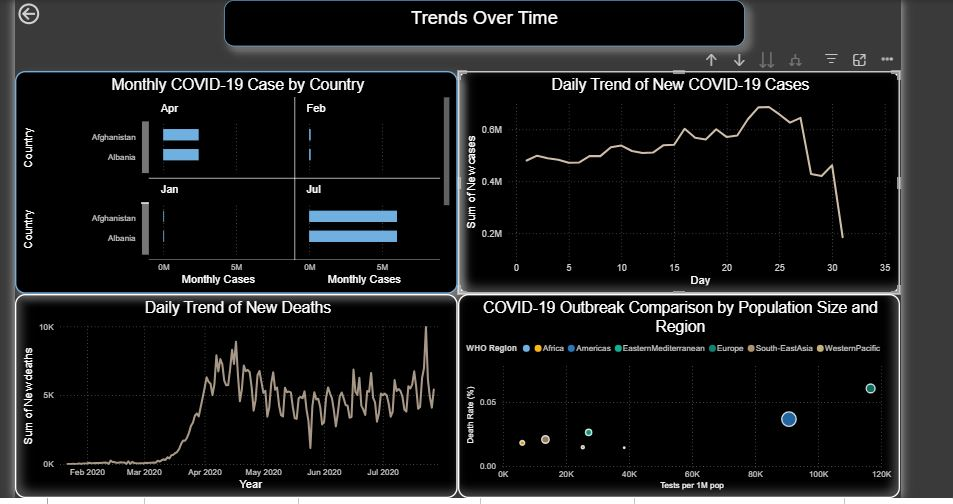

The page's visual inventory and layout, read from the dashboard file:
{"tool":"powerbi","page":{"name":"Trends Over Time","canvas":[1280,720],"ordinal":5},"visuals":[{"type":"lineChart","title":"Daily Trend of New Deaths","fields":{"Y":["Sum(Day Wise.New deaths)"],"Category":["Day Wise.Date.Variation.Date Hierarchy.Year","Day Wise.Date.Variation.Date Hierarchy.Quarter","Day Wise.Date.Variation.Date Hierarchy.Month","Day Wise.Date.Variation.Date Hierarchy.Day"]},"box":[0,425.1,640.5,294.9],"z":0},{"type":"lineChart","title":"Daily Trend of New COVID-19 Cases","fields":{"Category":["Day Wise.Date.Variation.Date Hierarchy.Year","Day Wise.Date.Variation.Date Hierarchy.Quarter","Day Wise.Date.Variation.Date Hierarchy.Month","Day Wise.Date.Variation.Date Hierarchy.Day"],"Y":["Sum(Day Wise.New cases)"]},"box":[640.5,102.7,639,322.4],"z":1000},{"type":"scatterChart","title":"COVID-19 Outbreak Comparison by Population Size and Region","fields":{"X":["Worldometer.Tests per 1M pop"],"Y":["Worldometer.Death Rate (%)"],"Size":["Sum(Worldometer.Total_cases)"],"Series":["Worldometer.WHO Region"]},"box":[640.5,425.1,639,294.9],"z":2000},{"type":"actionButton","box":[0,0,100,40],"z":3000},{"type":"textbox","box":[302.2,0,753.3,66.5],"z":4000},{"type":"clusteredBarChart","title":"Monthly COVID-19 Case by Country","fields":{"Category":["Worldometer.Country"],"Series":["Day Wise.Year"],"Rows":["Day Wise.Month"],"Y":["Day Wise.Monthly Cases"]},"box":[0,103,640,322],"z":5000}]}

Visuals, with their boxes on the page's 1280x720 design canvas (x1, y1, x2, y2). These are canvas units, not pixel positions in the 953x504 screenshot, which may show the page scaled, cropped or inside an application window:
"Daily Trend of New Deaths" lineChart: 0/425/640/720
"Daily Trend of New COVID-19 Cases" lineChart: 640/103/1280/425
"COVID-19 Outbreak Comparison by Population Size and Region" scatterChart: 640/425/1280/720
actionButton: 0/0/100/40
textbox: 302/0/1056/66
"Monthly COVID-19 Case by Country" clusteredBarChart: 0/103/640/425
